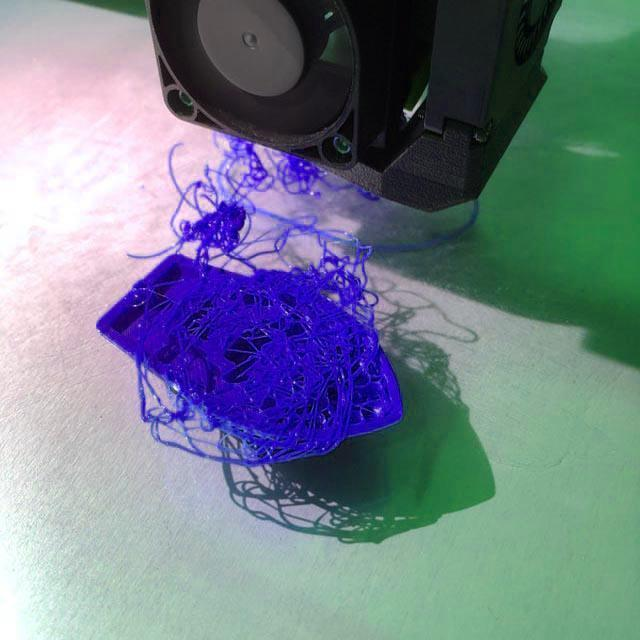spaghetti: (128, 134, 382, 467)
